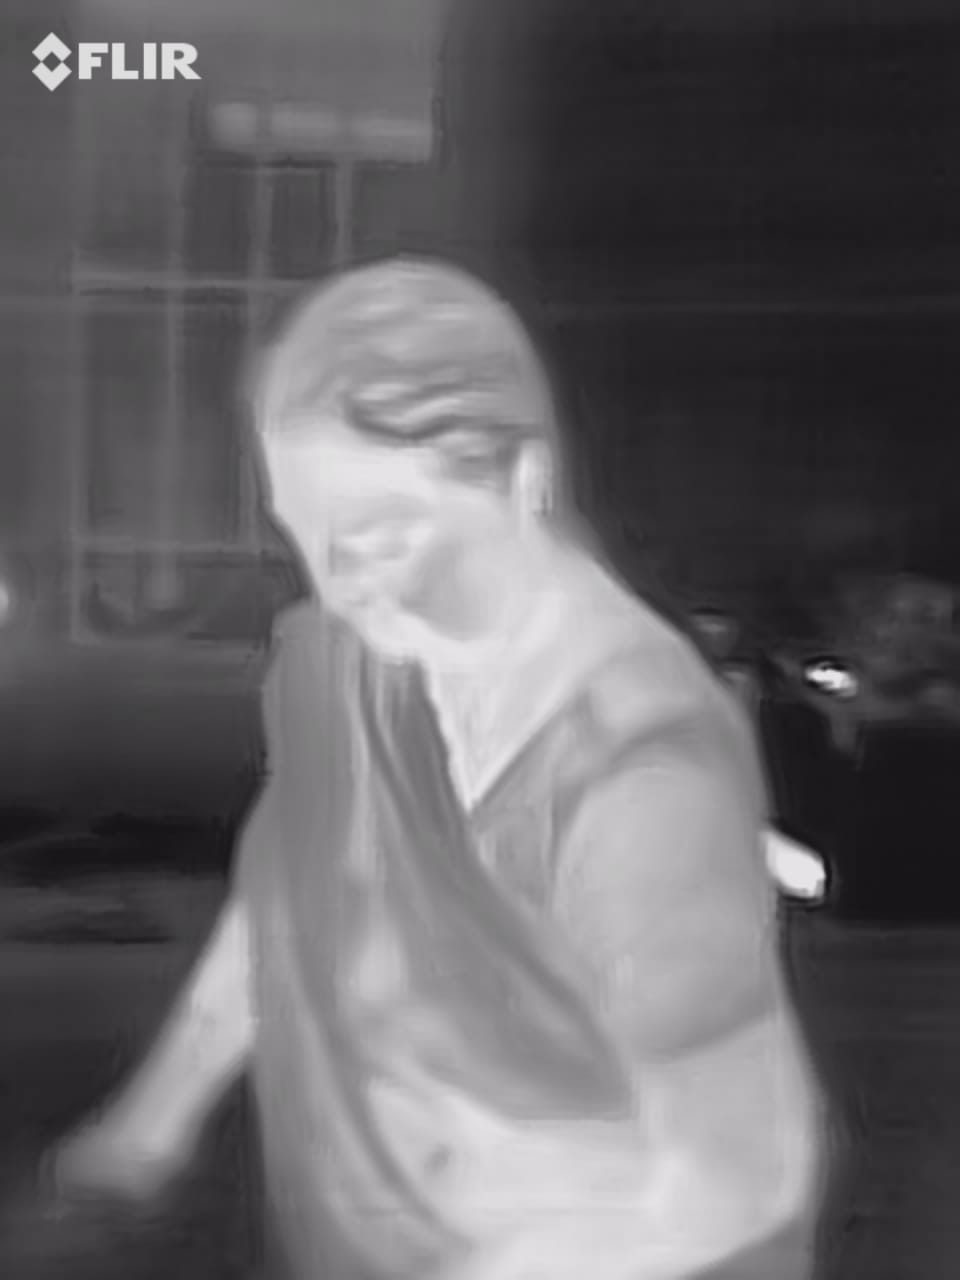head: (246, 242, 561, 672)
